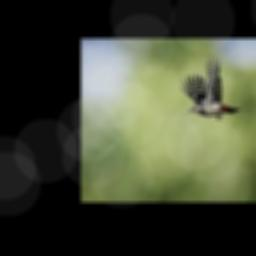Woodpecker: (179, 53, 239, 120)
